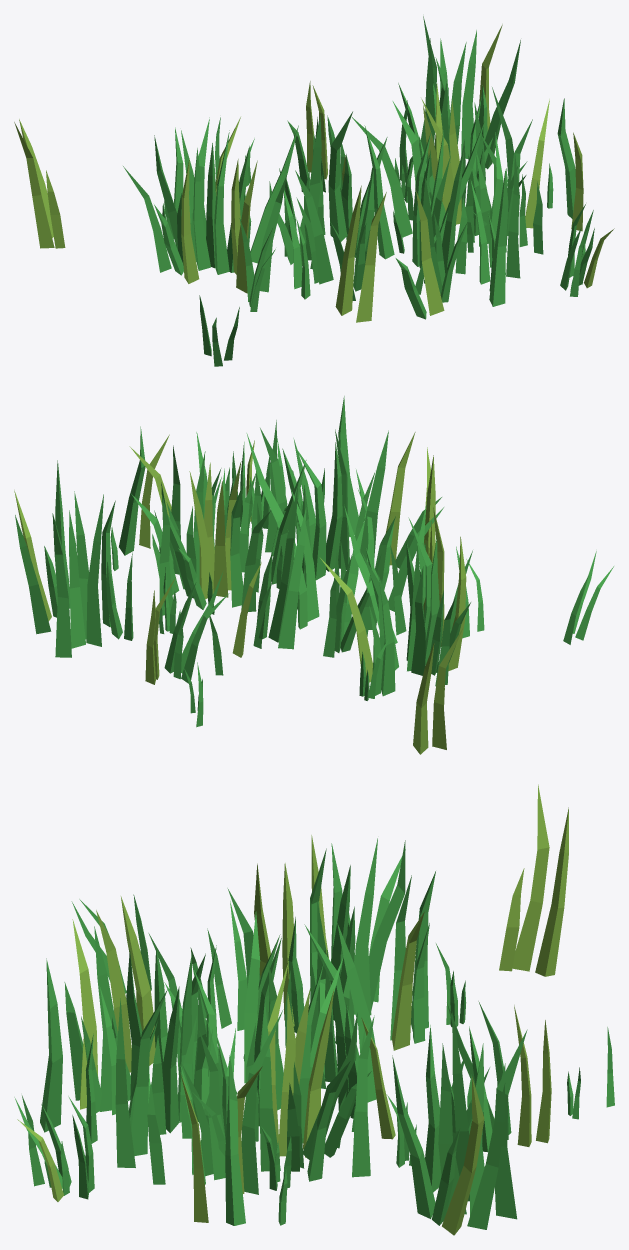
Rendered from co_pha.glb.
The picture shows the model from 3 angles, top to bottom: view 1: azimuth 30°, elevation 25°; view 2: azimuth 150°, elevation 25°; view 3: azimuth 270°, elevation 25°; orthographic projection. The views are drawn at different scales.
Visible parts, largest first — view 1: group945836210, group1794255474; view 2: group945836210, group1794255474; view 3: group945836210, group1794255474.
Part boxes in pixels (x1,y1,x2,y2): group945836210: [123, 16, 594, 366]; group1794255474: [14, 24, 614, 322]; group945836210: [15, 396, 613, 727]; group1794255474: [14, 432, 466, 754]; group945836210: [14, 838, 614, 1229]; group1794255474: [17, 784, 568, 1235].
Bounding box in the file's own units: 0.9109 × 0.295 × 0.7792.
